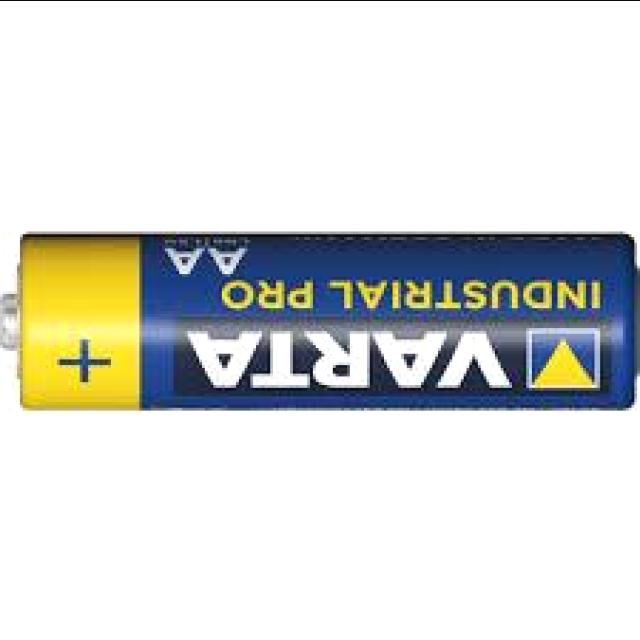AA: (0, 233, 637, 412)
